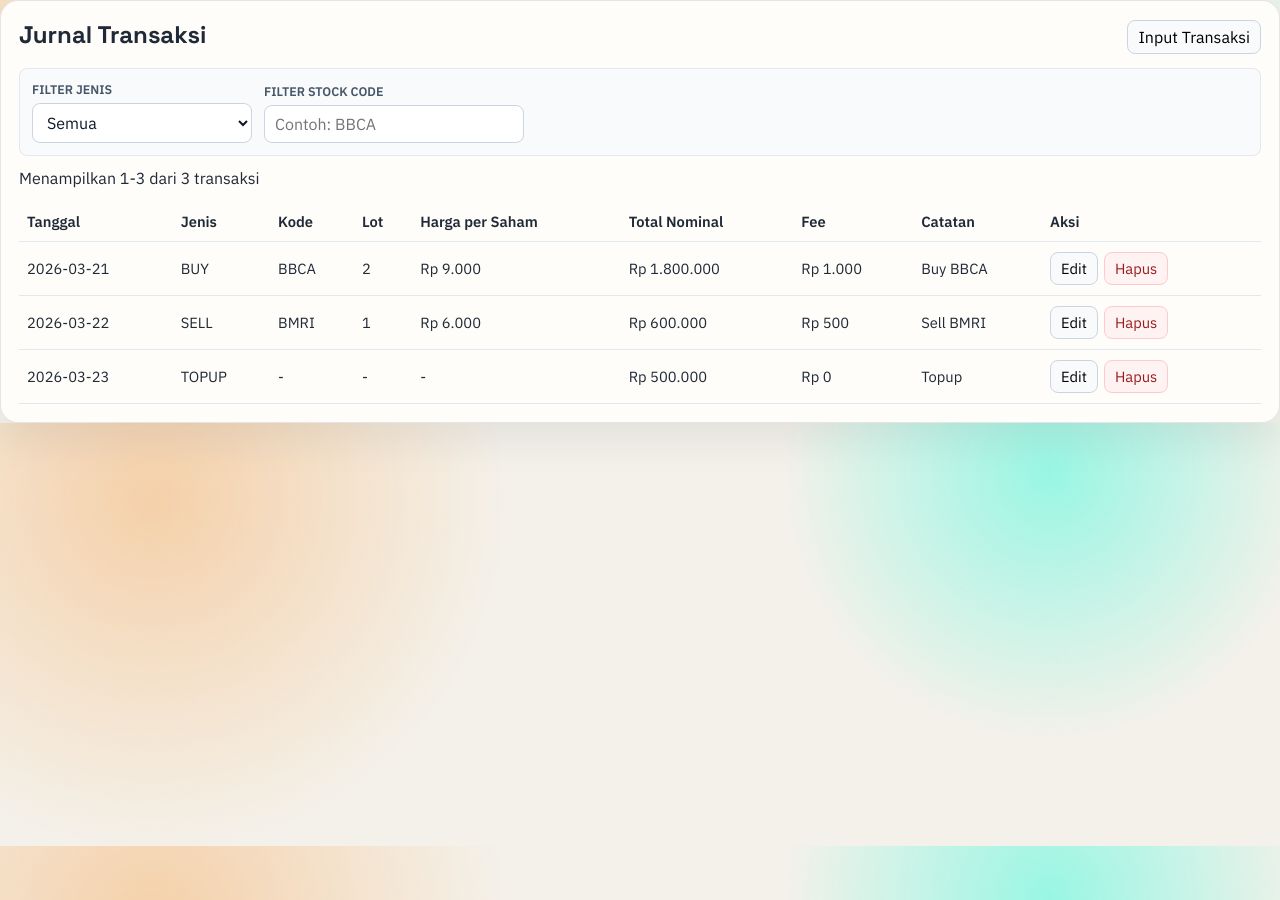
Test: JournalTable › filters rows by type and stock code
The image size is (1280, 900).
Select "BUY" in the dropdown labelled "Filter Jenis" at point(142, 123), box [32,103,252,143]
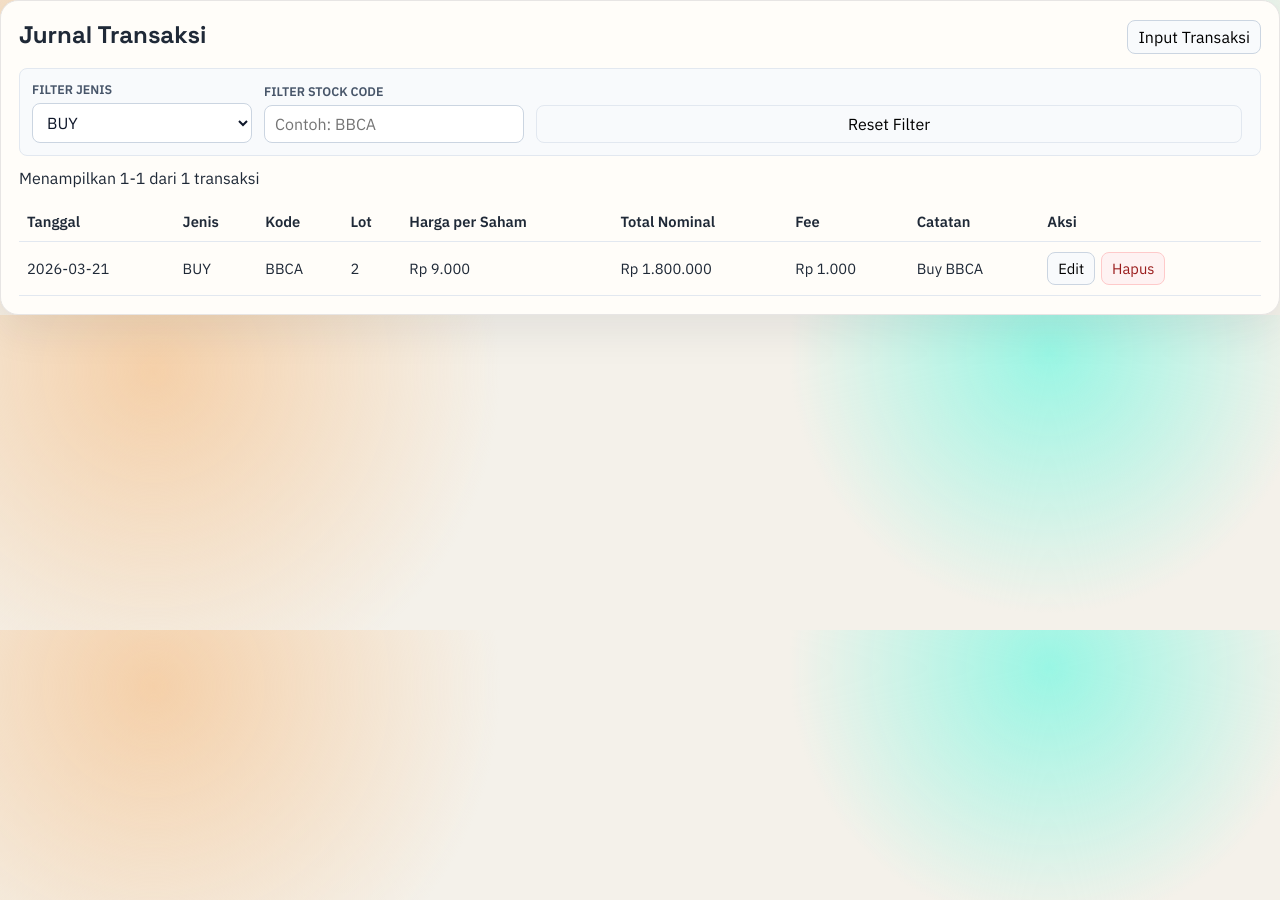
Expected: the text "Buy BBCA" is shown, [909,242,1039,296]
Expected: the text "Sell BMRI" is gone
Select "Semua" in the dropdown labelled "Filter Jenis" at point(142, 123), box [32,103,252,143]
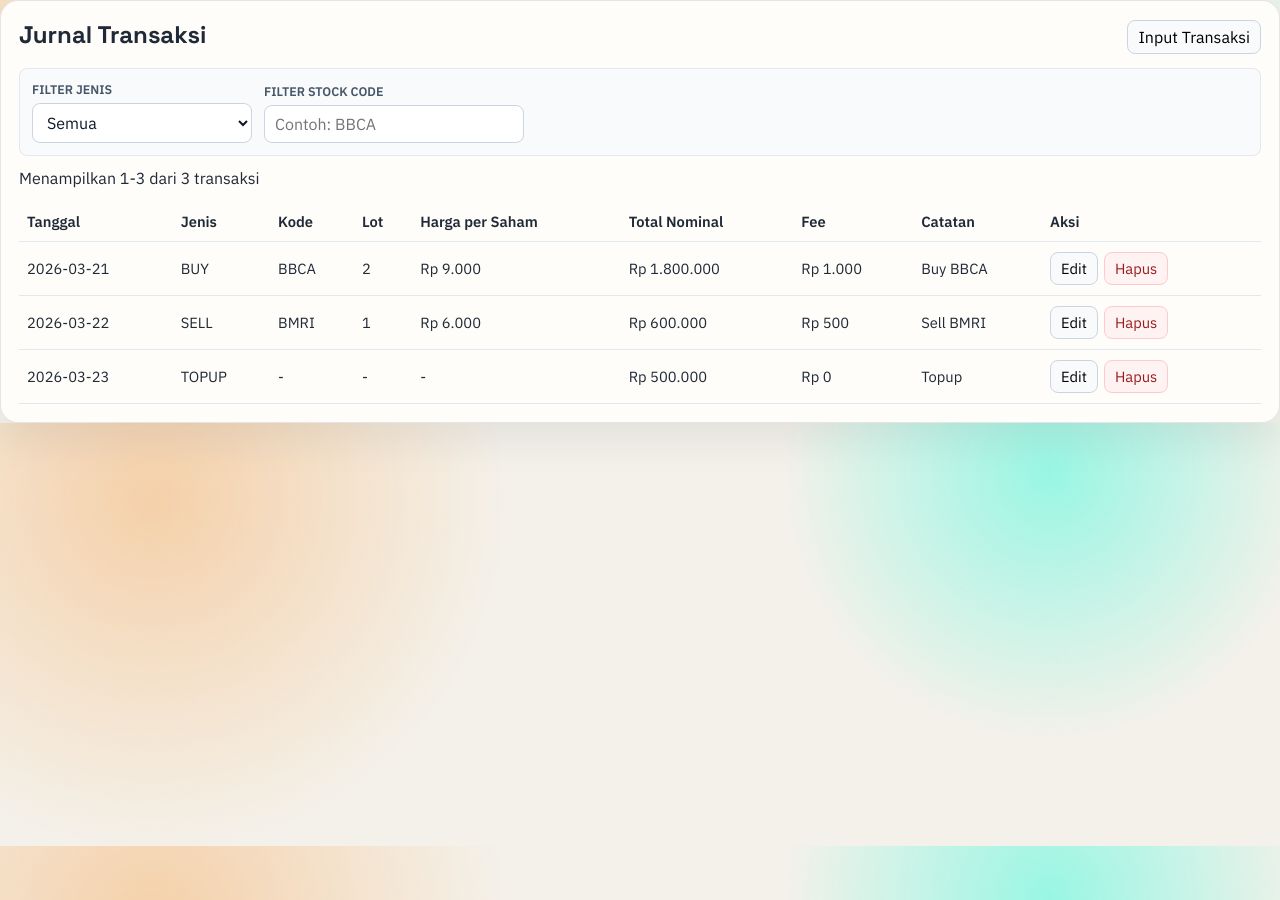
Type "bmr" into the field labelled "Filter Stock Code" at point(394, 124), box [264,105,524,143]
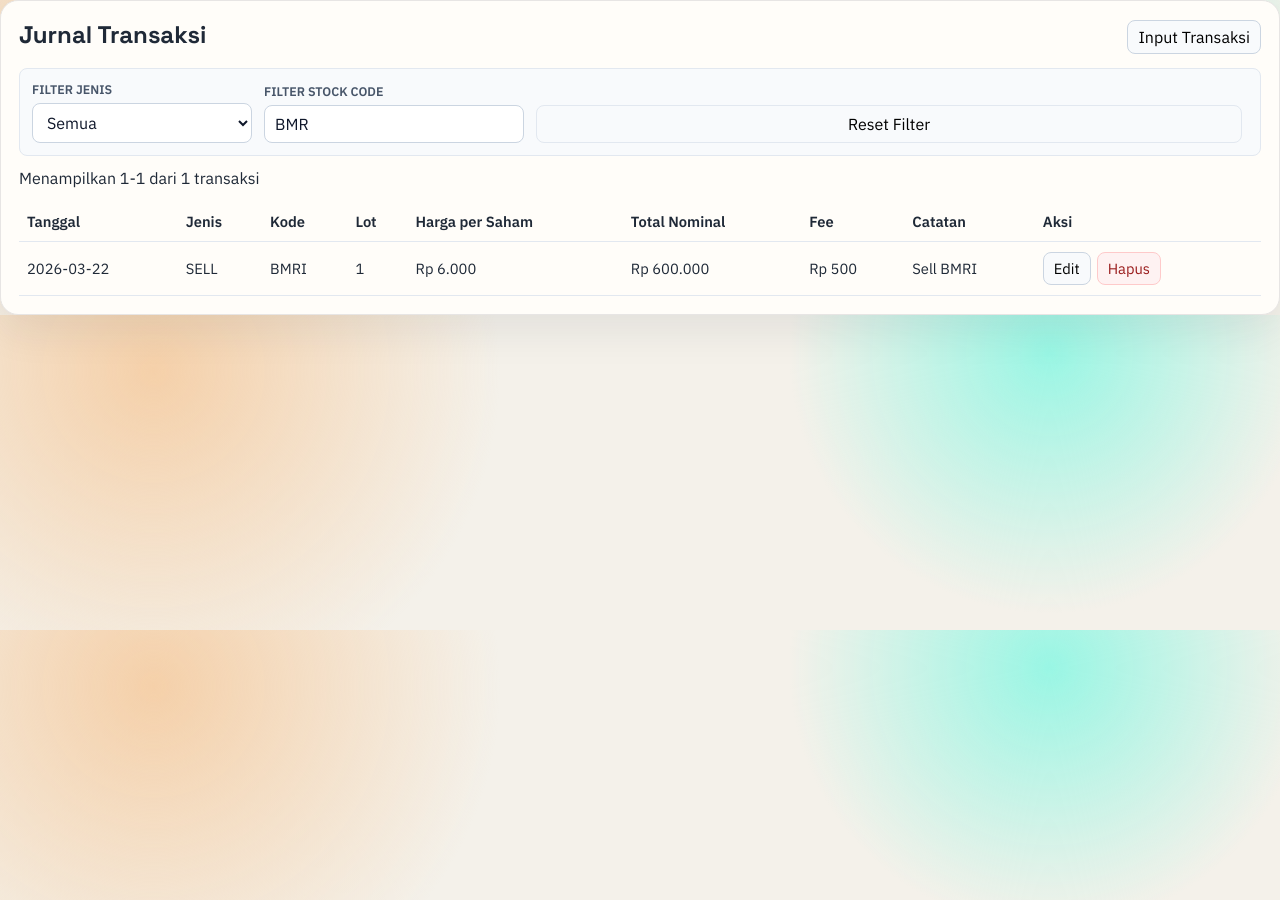
Expected: the text "Sell BMRI" is shown, [904,242,1035,296]
Expected: the text "Buy BBCA" is gone
Expected: the text "TOPUP" is gone
